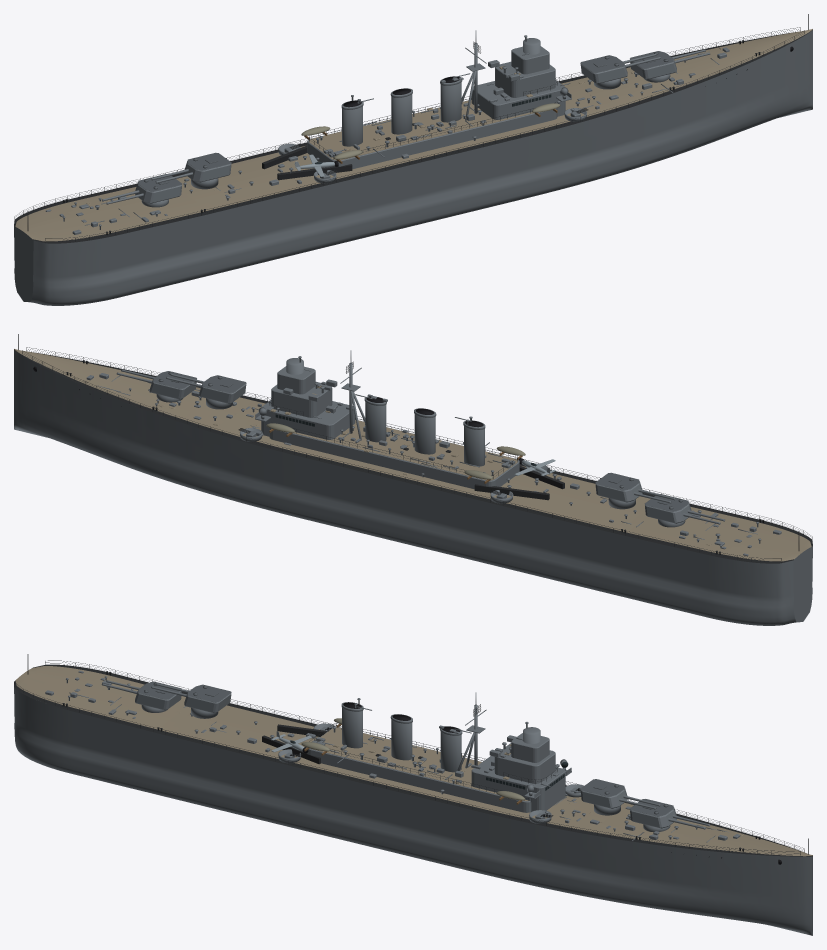
The model's file is kent.glb.
3 views of the same model, one above another, from view 1: azimuth 30°, elevation 25°; view 2: azimuth 150°, elevation 25°; view 3: azimuth 330°, elevation 25° (orthographic).
Visible parts, largest first — view 1: kent, T_2_malla, T_1_malla, T_3_malla, T_0_malla; view 2: kent, T_2_malla, T_1_malla, T_3_malla, T_0_malla; view 3: kent, T_1_malla, T_2_malla, T_0_malla, T_3_malla.
Boxes of the visible parts, box(x1,y1,x2,y2) form: kent: box(14, 14, 812, 305); T_2_malla: box(184, 152, 231, 182); T_1_malla: box(580, 55, 627, 83); T_3_malla: box(135, 174, 182, 203); T_0_malla: box(630, 51, 676, 79); kent: box(14, 334, 812, 625); T_2_malla: box(595, 472, 642, 502); T_1_malla: box(199, 375, 246, 403); T_3_malla: box(644, 494, 691, 523); T_0_malla: box(150, 371, 196, 399); kent: box(14, 654, 812, 935); T_1_malla: box(580, 779, 627, 808); T_2_malla: box(184, 684, 231, 712); T_0_malla: box(629, 799, 676, 828); T_3_malla: box(135, 681, 181, 710).
Bounding box in the file's own units: 192 × 37.5 × 20.98.
